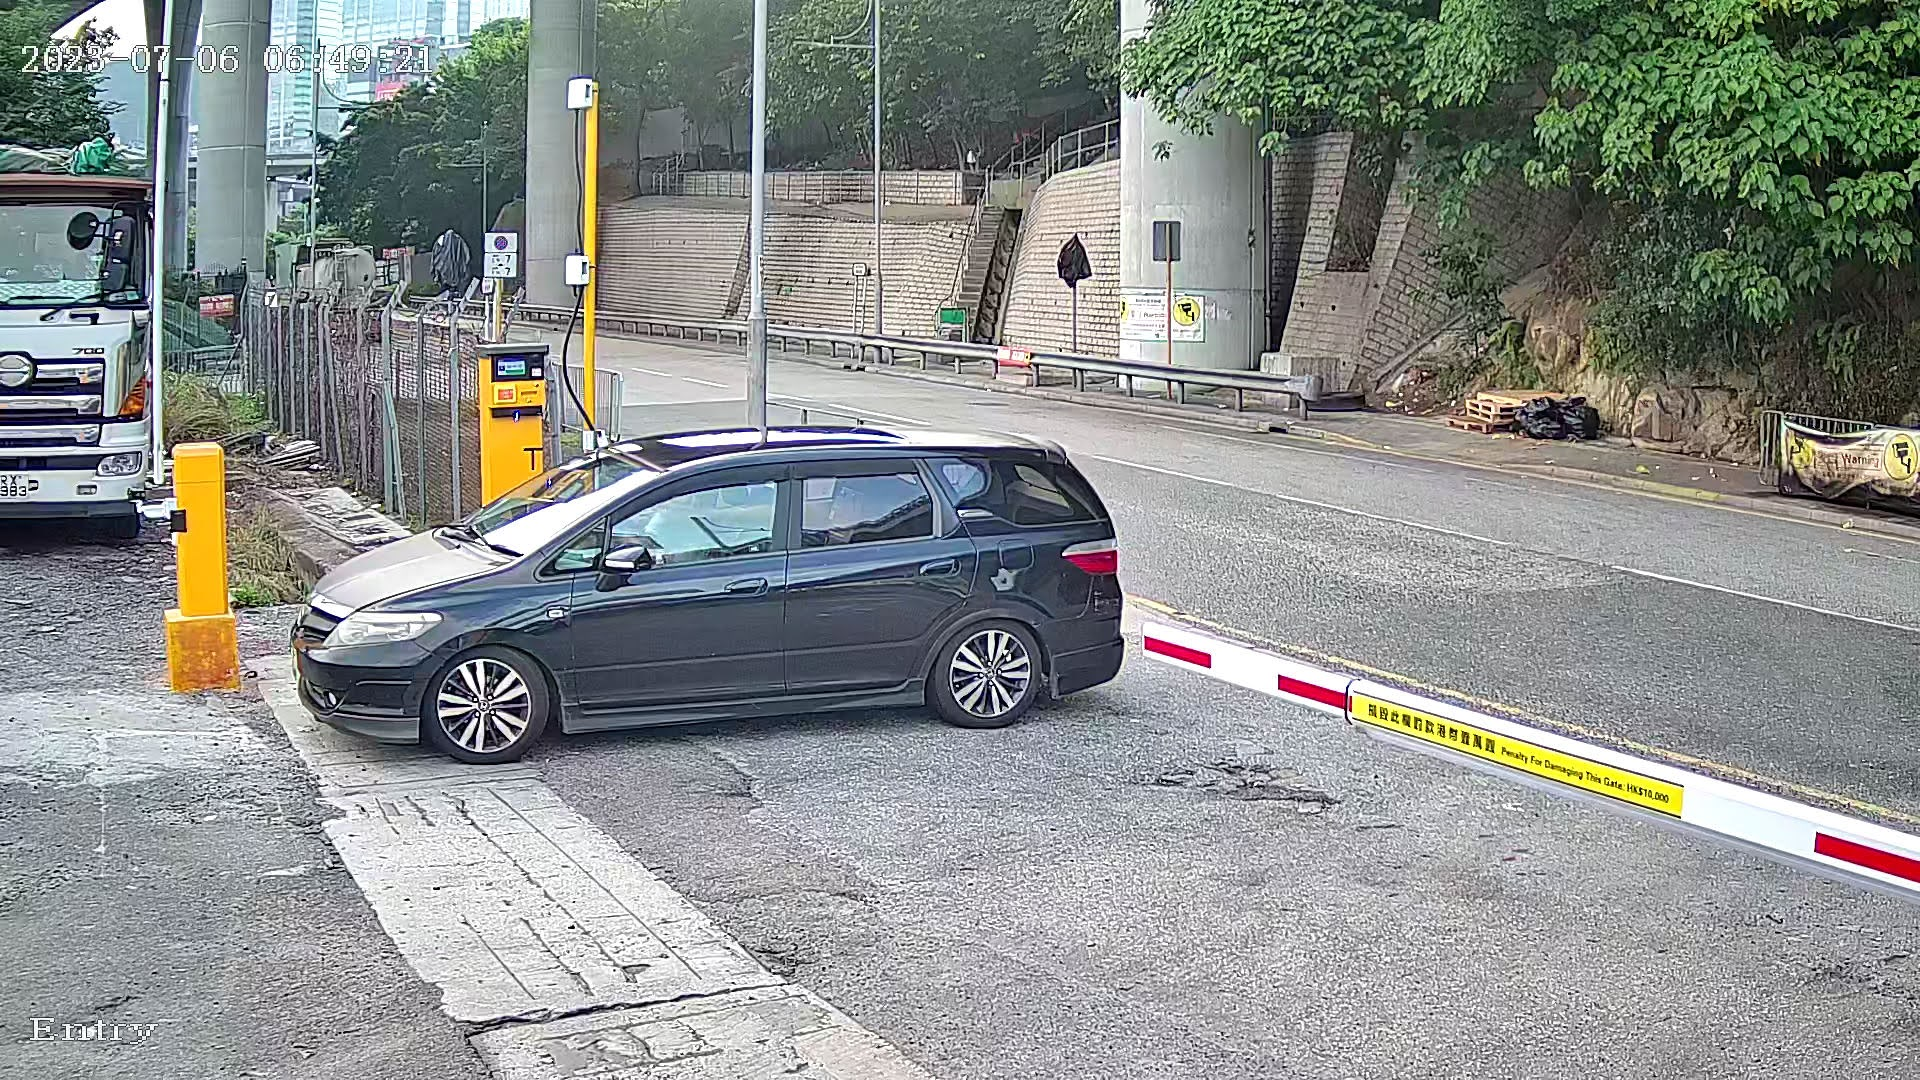privatecar: (258, 392, 1153, 781)
